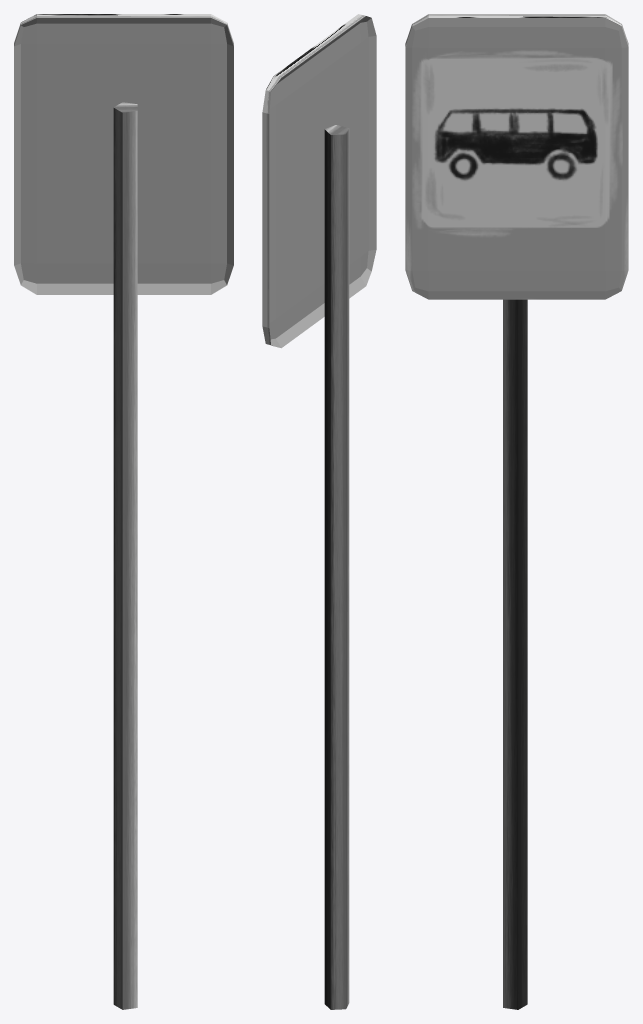
Rendered from sign_bus_stop.fbx.
3 views of the same model, side by side, from view 1: azimuth 90°, elevation 25°; view 2: azimuth 150°, elevation 25°; view 3: azimuth 270°, elevation 25° (orthographic). The views are drawn at different scales.
Parts seen in each view (by area): view 1: Cube.012, Cylinder; view 2: Cube.012, Cylinder; view 3: Cube.012, Cylinder.
Boxes of the visible parts, x1,y1,x2,y2 form: Cube.012: [14, 14, 233, 294]; Cylinder: [113, 102, 137, 1009]; Cube.012: [262, 14, 376, 348]; Cylinder: [324, 125, 349, 1009]; Cube.012: [405, 14, 628, 299]; Cylinder: [503, 299, 527, 1009].
Bounding box in the file's own units: 37.48 × 1079 × 219.
